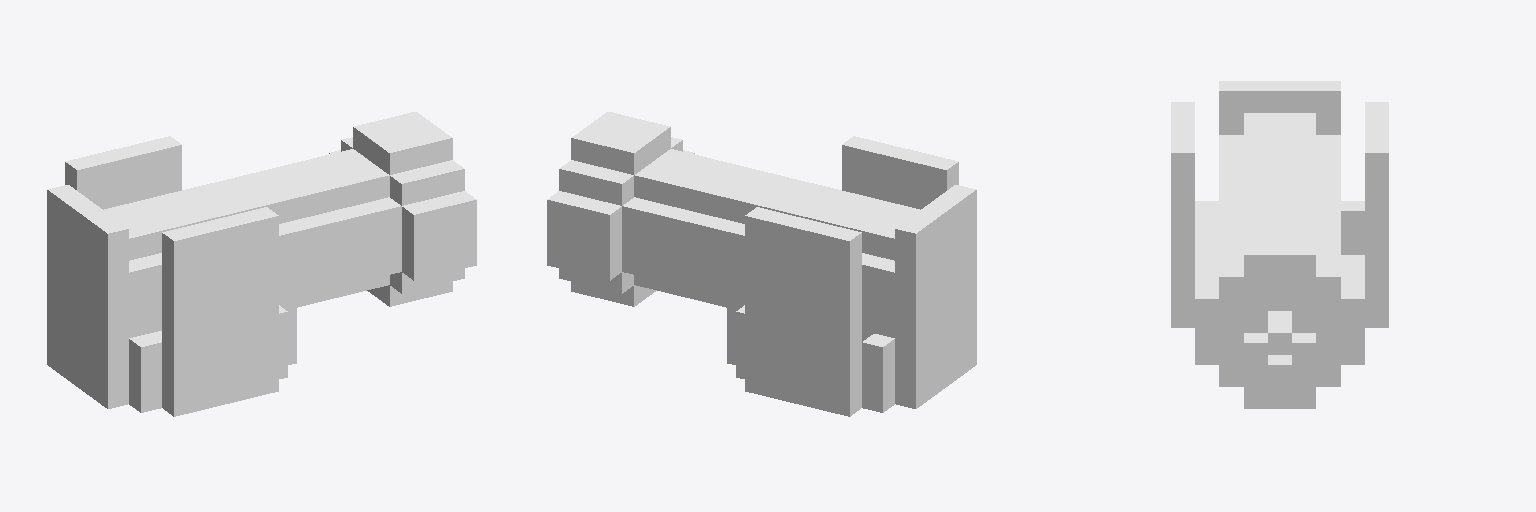
File: meriam_towerlevel3.obj
3 views of the same model, side by side, from view 1: azimuth 30°, elevation 25°; view 2: azimuth 150°, elevation 25°; view 3: azimuth 270°, elevation 25° (orthographic).
Bounding box in the file's own units: 17 × 8 × 9.